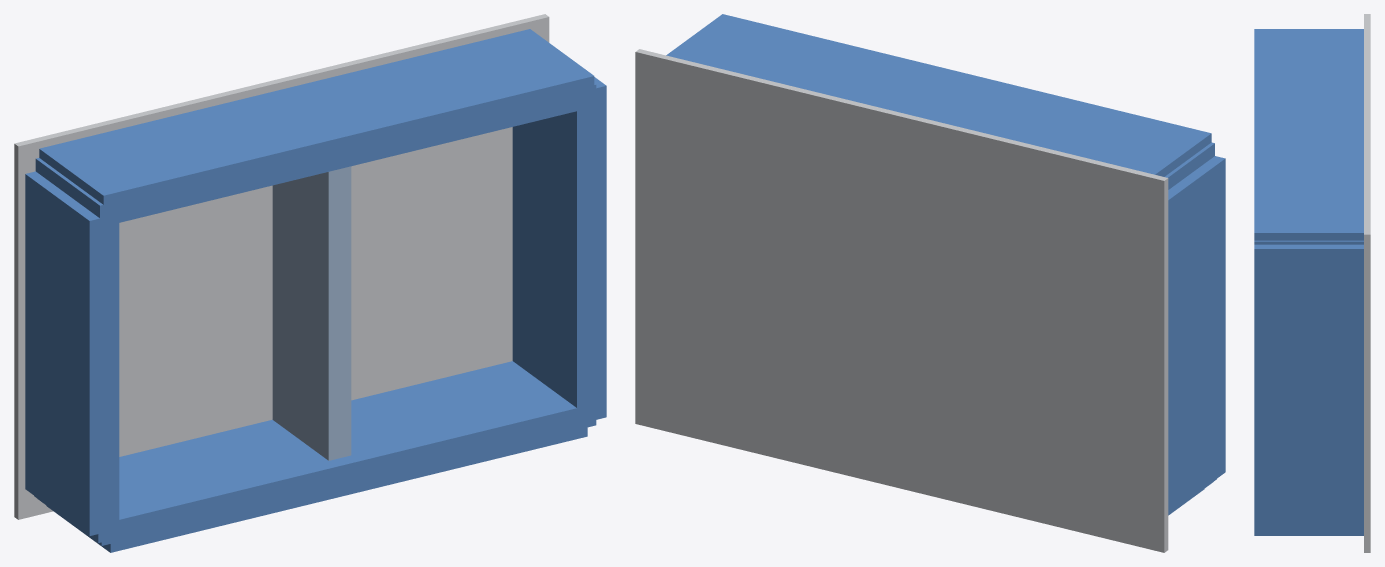
Rendered from test_minimal.glb.
The picture shows the model from 3 angles, left to right: view 1: azimuth 30°, elevation 25°; view 2: azimuth 150°, elevation 25°; view 3: azimuth 270°, elevation 25°; orthographic projection. The views are drawn at different scales.
Visible parts, largest first — view 1: world; view 2: world; view 3: world.
Part boxes in pixels (bbox=[...]): world: bbox=[14, 14, 606, 552]; world: bbox=[635, 14, 1225, 552]; world: bbox=[1254, 14, 1370, 552].
Bounding box in the file's own units: 15.25 × 10.25 × 3.4.
